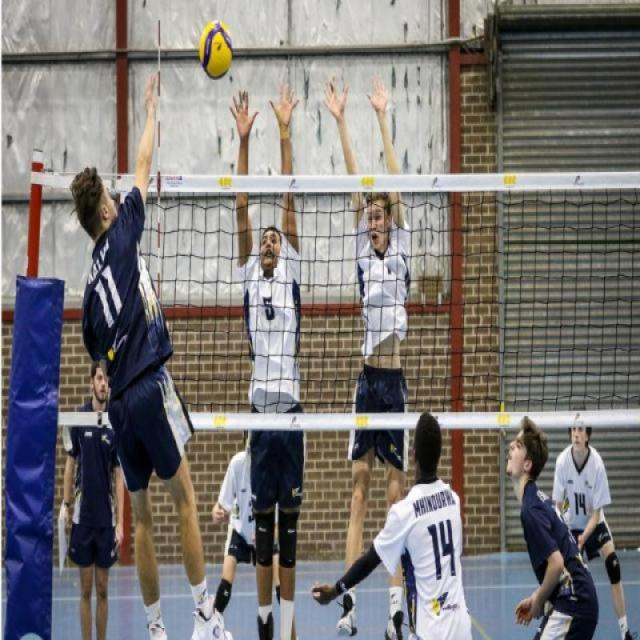volleyball: (196, 16, 236, 83)
